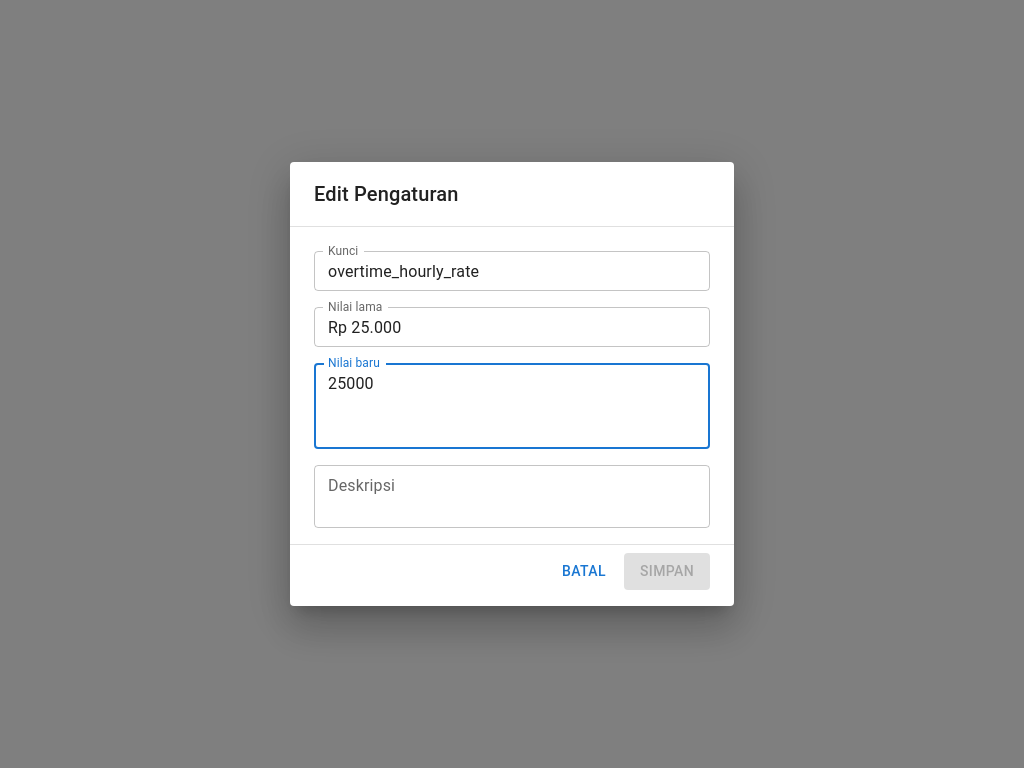
Test: EditSettingDialog › strips non-digits when the key is numeric (ends in _rate)
Replace the text in the text box labelled "Nilai baru" with "Rp 30.000" at coordinates (512, 406), box top-left (328, 372), bottom-right (696, 441)
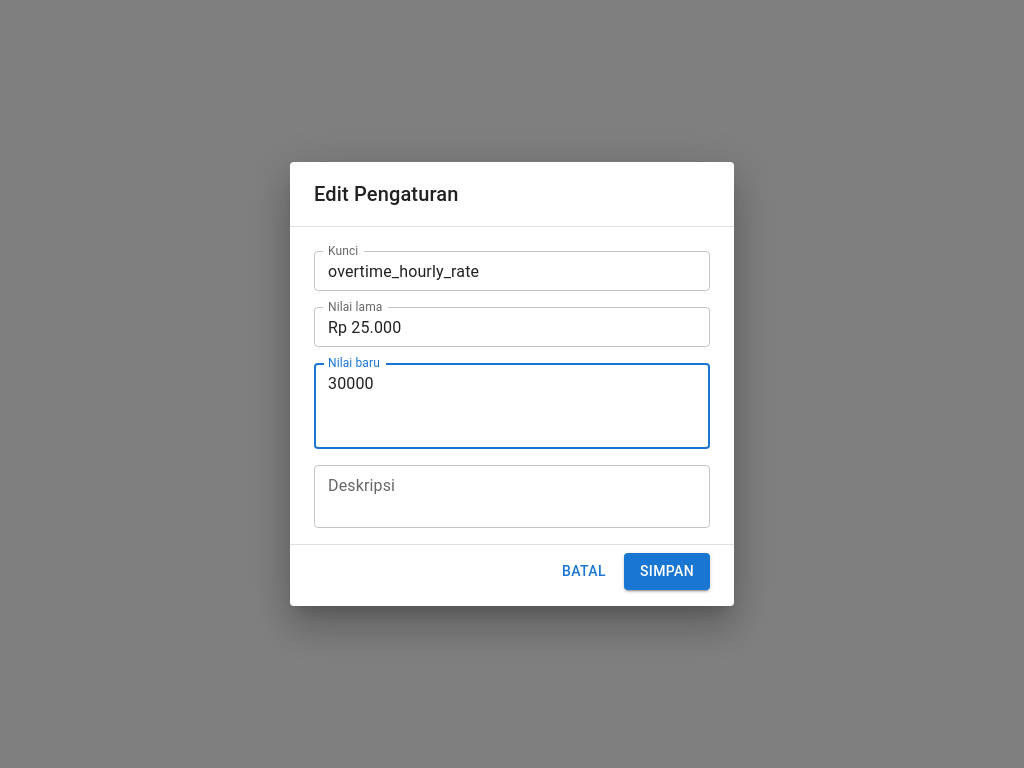
expect the text box labelled "Nilai baru" holds "30000": met, box top-left (328, 372), bottom-right (696, 441)
